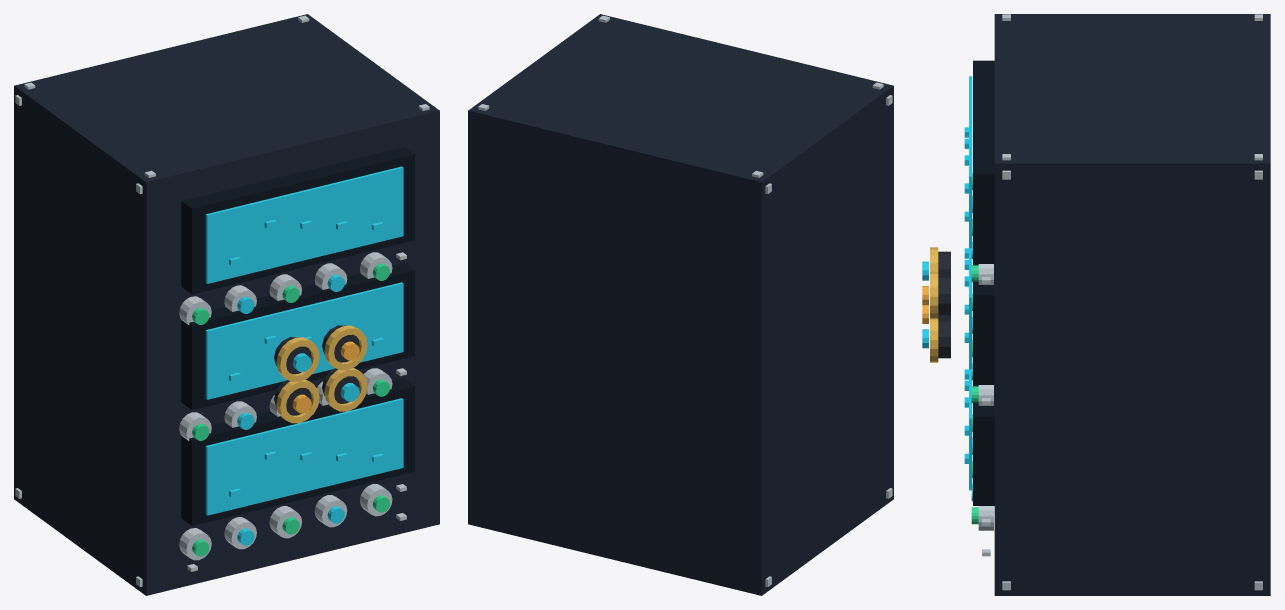
The model's file is 57_L82_ProtectedSensorInputFilter.fbx.
3 renders of one model, left to right at view 1: azimuth 30°, elevation 25°; view 2: azimuth 150°, elevation 25°; view 3: azimuth 270°, elevation 25°, orthographic. The views are drawn at different scales.
Parts seen in each view (by area): view 1: ProtectedSensorInputFilter; view 2: ProtectedSensorInputFilter; view 3: ProtectedSensorInputFilter.
Part boxes in pixels (<box>): ProtectedSensorInputFilter: <box>14,14,439,595</box>; ProtectedSensorInputFilter: <box>468,14,893,595</box>; ProtectedSensorInputFilter: <box>922,14,1270,595</box>.
Bounding box in the file's own units: 106 × 142 × 102.
